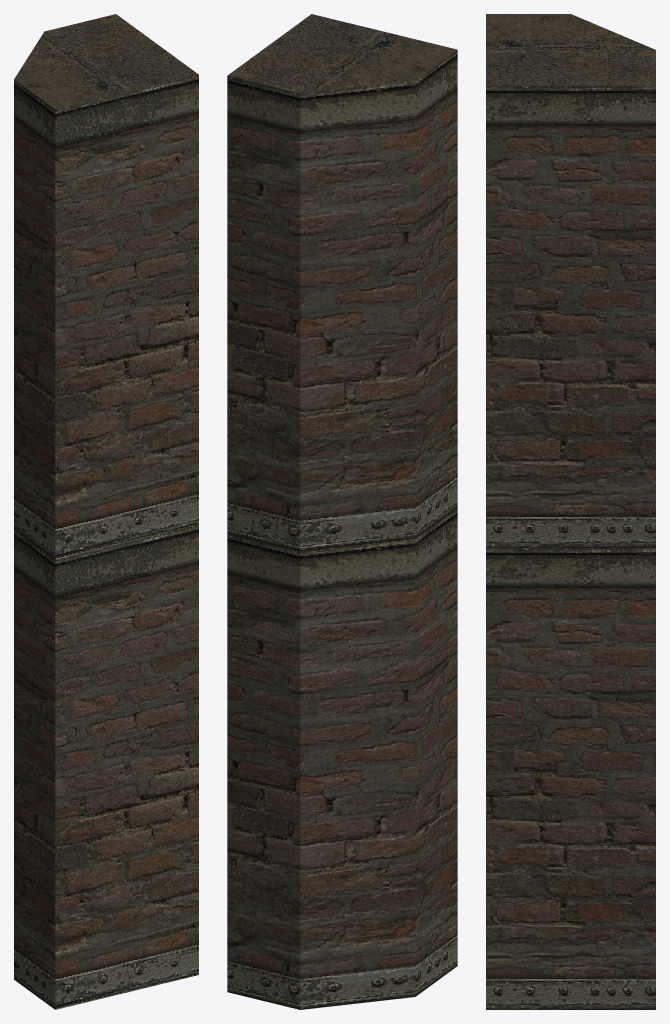
Rendered from pillar_hr_6.glb.
3 renders of one model, left to right at view 1: azimuth 30°, elevation 25°; view 2: azimuth 150°, elevation 25°; view 3: azimuth 270°, elevation 25°, orthographic. The views are drawn at different scales.
Parts seen in each view (by area): view 1: pillar_hr_6; view 2: pillar_hr_6; view 3: pillar_hr_6.
Boxes of the visible parts, x1,y1,x2,y2 form: pillar_hr_6: (14,14,198,1009); pillar_hr_6: (227,14,457,1009); pillar_hr_6: (486,14,655,1009).
Size of the model in its own units: 1 by 6 by 1.
Materials: 2 (2 with a texture image).
